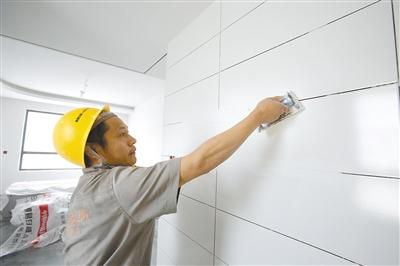hard-hat: (52, 102, 110, 168)
person: (55, 94, 291, 265)
